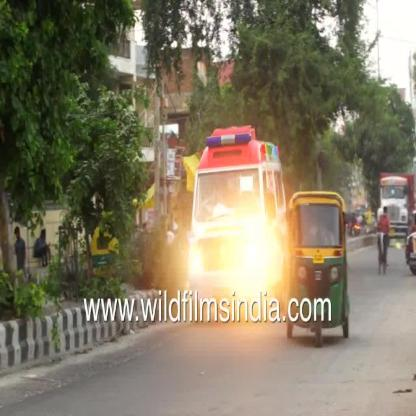auto-rikshaw: (286, 192, 358, 342)
priority: (183, 123, 293, 245)
